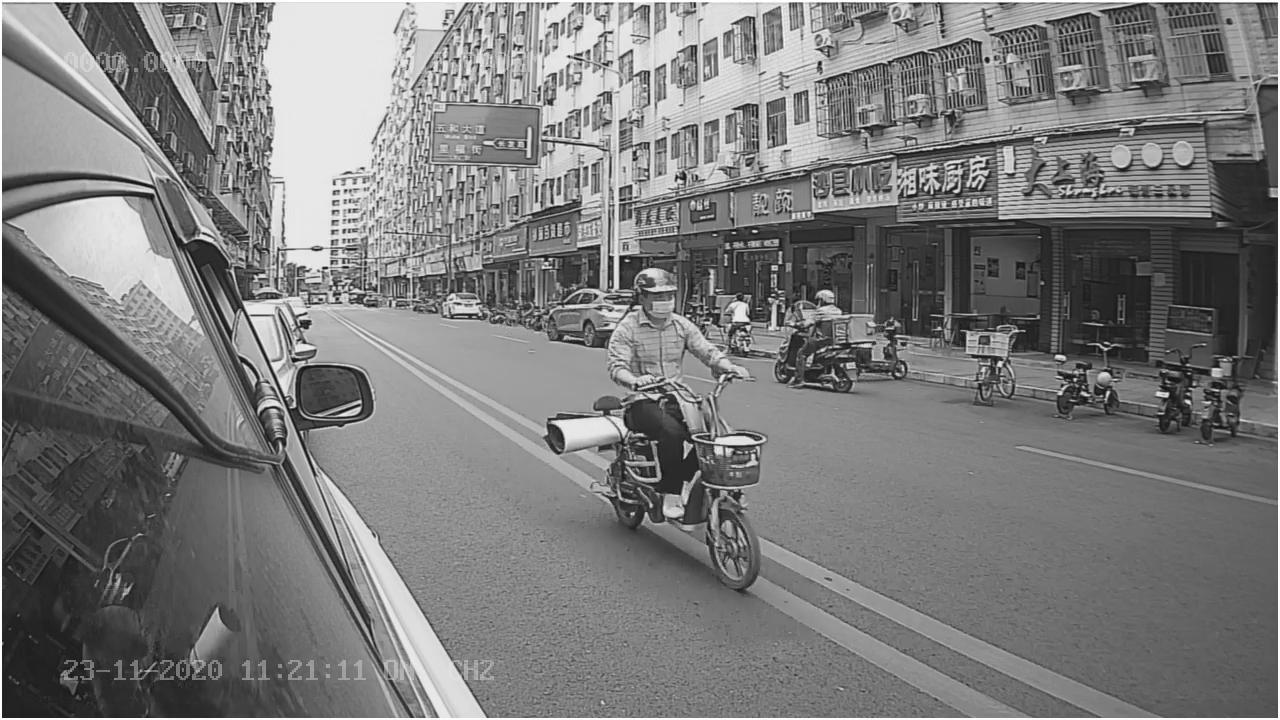person: (599, 265, 752, 386)
